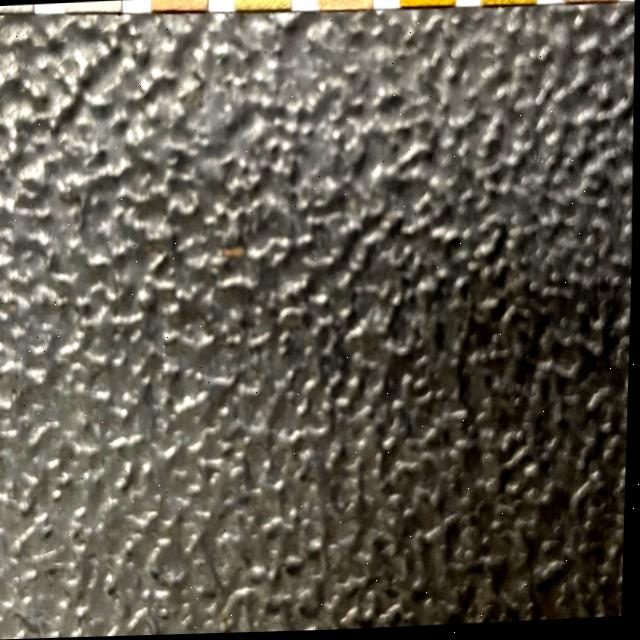Blood: (399, 0, 452, 8)
Ketone: (563, 0, 617, 4)
Nitrite: (63, 1, 120, 14)
Protein: (235, 0, 289, 11)
SpGravity: (481, 0, 533, 8)
Urobilinogen: (149, 0, 206, 12)
pH: (316, 0, 371, 12)
